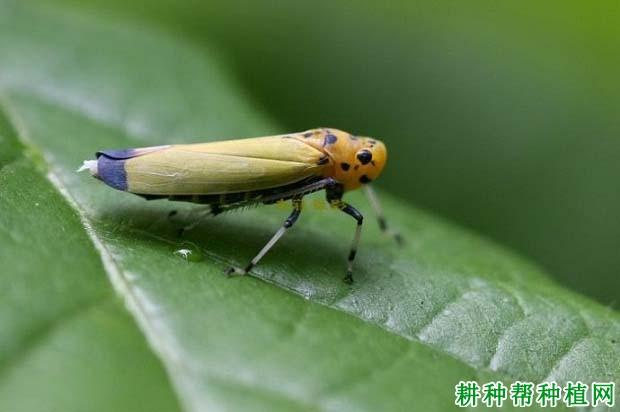Cicadellidae: (75, 127, 387, 283)
